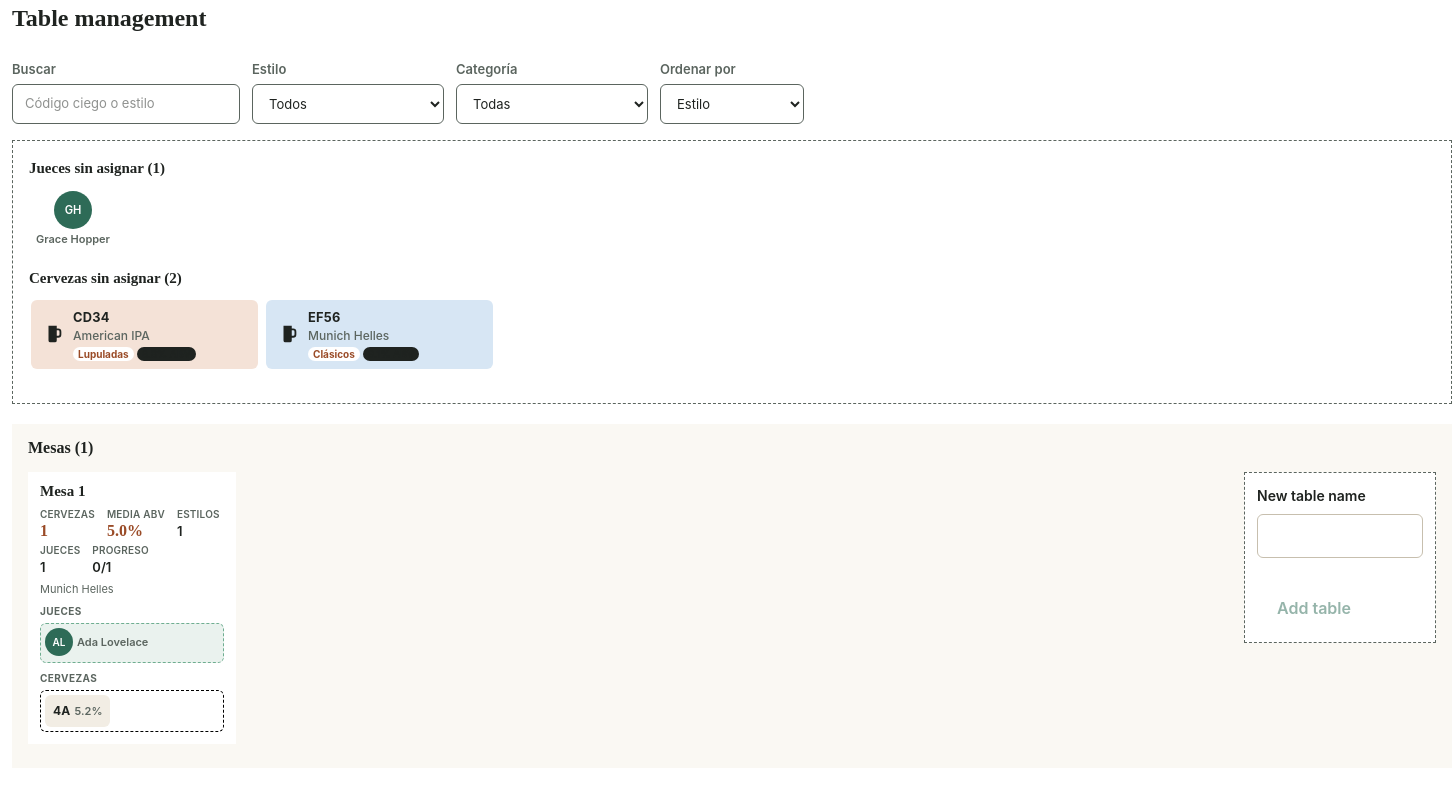
Test: TableBoardComponent › pool filters (T125) › reports the filtered count against the pool total, and clears back to everything
In the search field labelled "Buscar": (126, 104) [12, 84, 240, 124], type "CD34"
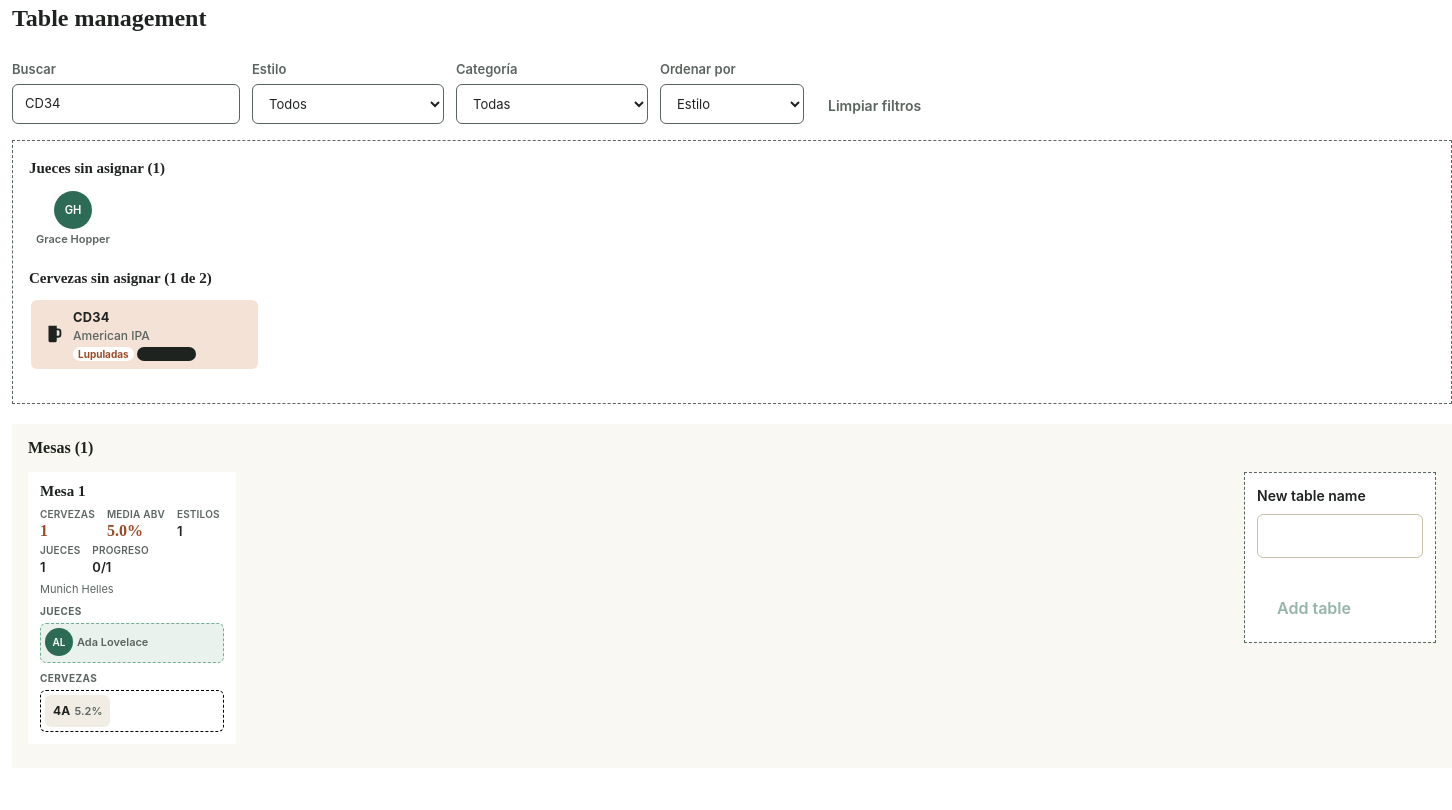
Check: the text "Cervezas sin asignar (1 de 2)" is shown, box [29, 270, 212, 286]
Click the button "Limpiar filtros": click(875, 106) [816, 88, 933, 124]
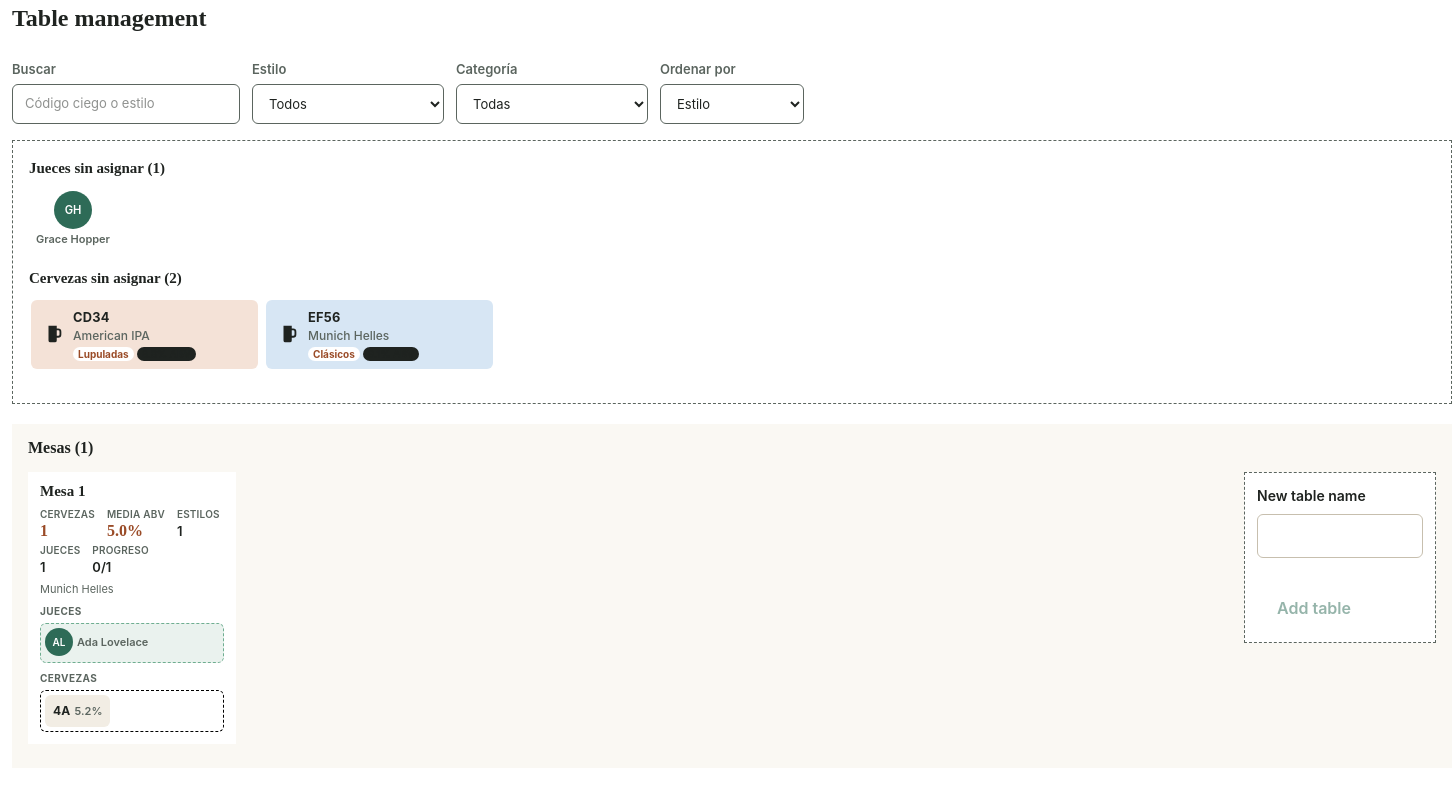
Check: the text "Cervezas sin asignar (2)" is shown, box [29, 270, 182, 286]
